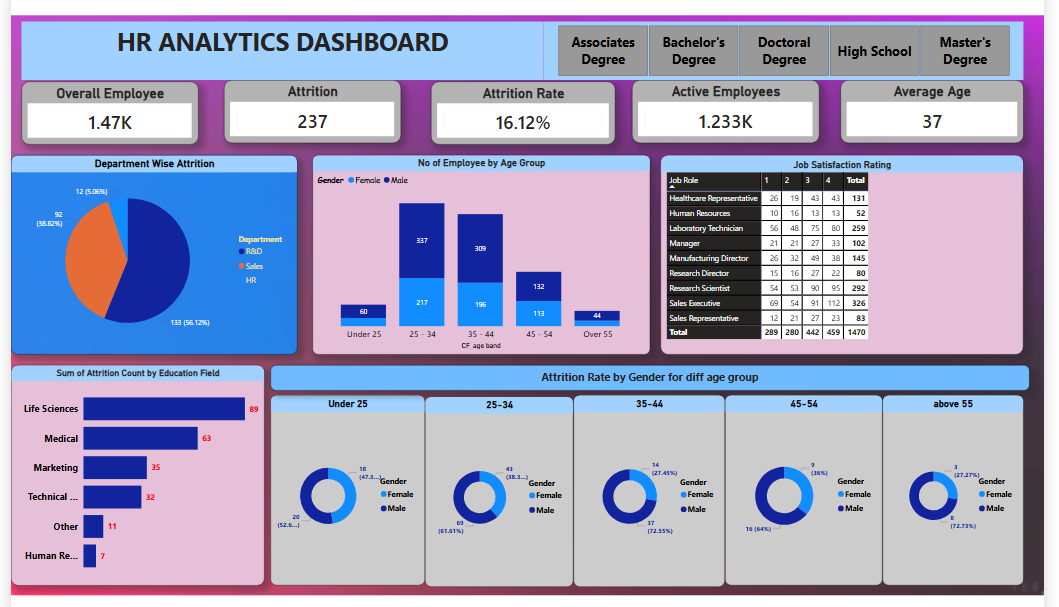

What the dashboard file says about the page in this screenshot:
{"tool":"powerbi","page":{"name":"Page 1","canvas":[1800,1100],"ordinal":0},"visuals":[{"type":"cardVisual","title":"Overall Employee","fields":{"Data":["Sum(HR data.Employee Count)"]},"box":[18.3,154.3,308.6,109.8],"z":0},{"type":"cardVisual","title":"Attrition","fields":{"Data":["Sum(HR data.Attrition Count)"]},"box":[371.3,151.7,308.6,109.8],"z":1000},{"type":"cardVisual","title":"Attrition Rate","fields":{"Data":["HR data.Attrition Rate"]},"box":[732.2,154.3,321.6,109.8],"z":2000},{"type":"cardVisual","title":"Active Employees","fields":{"Data":["HR data.Active Employees"]},"box":[1082.6,151.7,326.9,109.8],"z":3000},{"type":"cardVisual","title":"Average Age","fields":{"Data":["Avg(HR data.Age)"]},"box":[1446.1,151.7,319,109.8],"z":4000},{"type":"pieChart","title":"Department Wise Attrition","fields":{"Category":["HR data.Department"],"Y":["Sum(HR data.Attrition Count)"]},"box":[0,282.4,499.5,347.8],"z":5000},{"type":"columnChart","title":"No of Employee by Age Group","fields":{"Category":["HR data.CF_age band"],"Y":["Sum(HR data.Employee Count)"],"Series":["HR data.Gender"]},"box":[525.6,282.4,588.4,347.8],"z":6000},{"type":"pivotTable","title":"Job Satisfaction Rating","fields":{"Rows":["HR data.Job Role"],"Columns":["HR data.Job Satisfaction"],"Values":["Sum(HR data.Employee Count)"]},"box":[1132.3,282.4,632.8,347.8],"z":7000},{"type":"barChart","fields":{"Category":["HR data.Education Field"],"Y":["Sum(HR data.Attrition Count)"]},"box":[0,648.5,441.9,384.4],"z":8000},{"type":"donutChart","title":"Under 25","fields":{"Category":["HR data.Gender"],"Y":["Sum(HR data.Attrition Count)"],"Series":["HR data.CF_age band"]},"box":[452.4,700.8,269.3,332.1],"z":9000},{"type":"textbox","box":[452.4,648.5,1323.2,44.5],"z":10000},{"type":"donutChart","title":"45-54","fields":{"Category":["HR data.Gender"],"Y":["Sum(HR data.Attrition Count)"],"Series":["HR data.CF_age band"]},"box":[1244.7,700.8,274.6,332.1],"z":11000},{"type":"donutChart","title":"above 55","fields":{"Category":["HR data.Gender"],"Y":["Sum(HR data.Attrition Count)"],"Series":["HR data.CF_age band"]},"box":[1519.3,700.8,245.8,332.1],"z":12000},{"type":"donutChart","title":"35-44","fields":{"Category":["HR data.Gender"],"Y":["Sum(HR data.Attrition Count)"],"Series":["HR data.CF_age band"]},"box":[980.6,700.8,264.1,334.7],"z":13000},{"type":"donutChart","title":" 25-34","fields":{"Category":["HR data.Gender"],"Y":["Sum(HR data.Attrition Count)"],"Series":["HR data.CF_age band"]},"box":[721.7,703.4,258.9,332.1],"z":14000},{"type":"textbox","box":[18.3,49.7,910,102],"z":14001},{"type":"slicer","fields":{"Values":["HR data.Education"]},"box":[928.3,49.7,836.8,102],"z":14002}]}

Visuals, with their boxes on the page's 1800x1100 design canvas (x1, y1, x2, y2). These are canvas units, not pixel positions in the 1059x607 screenshot, which may show the page scaled, cropped or inside an application window:
"Overall Employee" cardVisual: [x1=18, y1=154, x2=327, y2=264]
"Attrition" cardVisual: [x1=371, y1=152, x2=680, y2=262]
"Attrition Rate" cardVisual: [x1=732, y1=154, x2=1054, y2=264]
"Active Employees" cardVisual: [x1=1083, y1=152, x2=1410, y2=262]
"Average Age" cardVisual: [x1=1446, y1=152, x2=1765, y2=262]
"Department Wise Attrition" pieChart: [x1=0, y1=282, x2=500, y2=630]
"No of Employee by Age Group" columnChart: [x1=526, y1=282, x2=1114, y2=630]
"Job Satisfaction Rating" pivotTable: [x1=1132, y1=282, x2=1765, y2=630]
barChart - HR data.Education Field x Sum(HR data.Attrition Count): [x1=0, y1=648, x2=442, y2=1033]
"Under 25" donutChart: [x1=452, y1=701, x2=722, y2=1033]
textbox: [x1=452, y1=648, x2=1776, y2=693]
"45-54" donutChart: [x1=1245, y1=701, x2=1519, y2=1033]
"above 55" donutChart: [x1=1519, y1=701, x2=1765, y2=1033]
"35-44" donutChart: [x1=981, y1=701, x2=1245, y2=1036]
" 25-34" donutChart: [x1=722, y1=703, x2=981, y2=1036]
textbox: [x1=18, y1=50, x2=928, y2=152]
slicer - HR data.Education: [x1=928, y1=50, x2=1765, y2=152]
